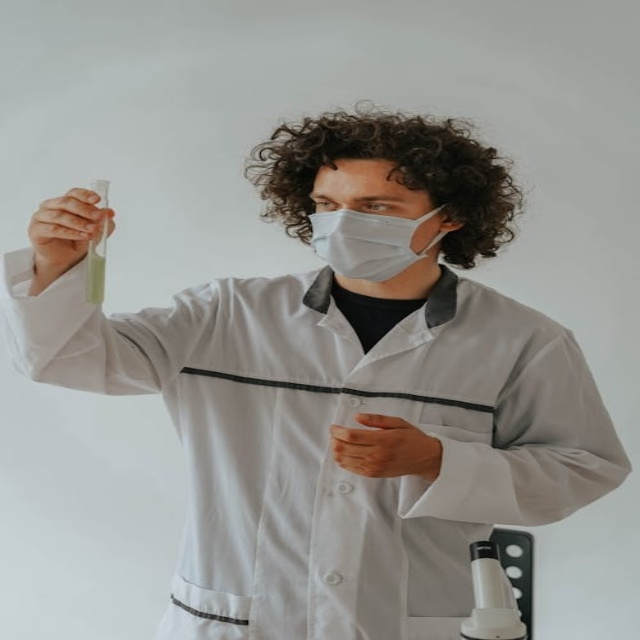Mascara: (305, 203, 448, 281)
Sin_gafas: (307, 187, 410, 213)
Sin_guantes: (26, 185, 122, 264), (330, 413, 439, 480)
